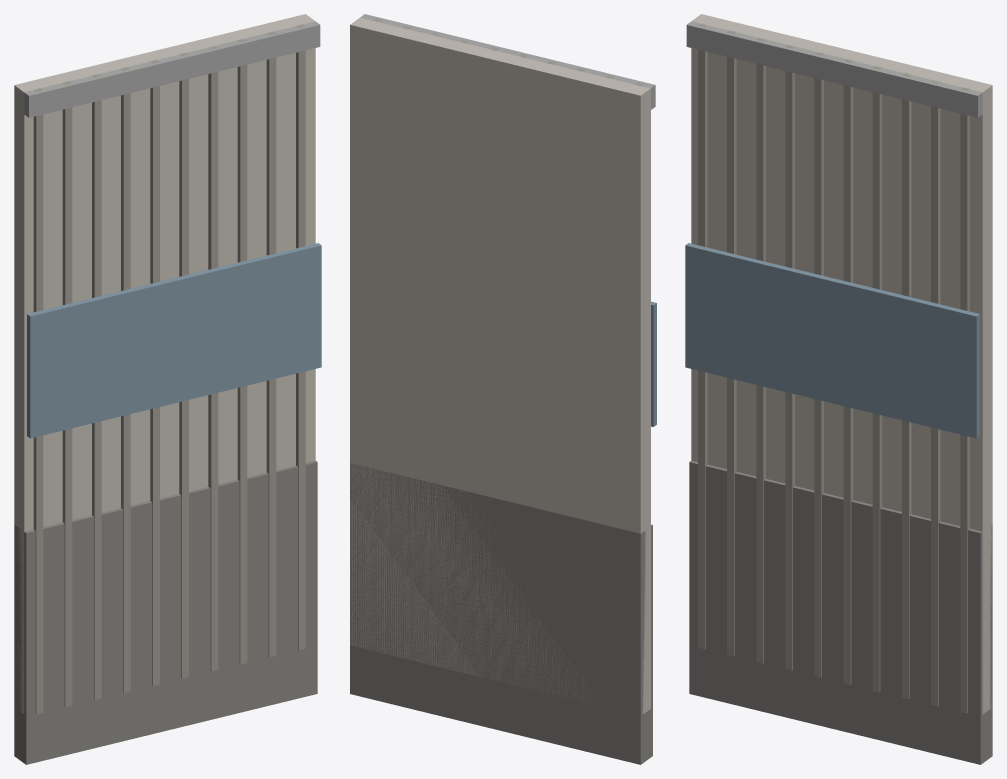
File: shed_wall_glazed.obj
The picture shows the model from 3 angles, left to right: view 1: azimuth 30°, elevation 25°; view 2: azimuth 150°, elevation 25°; view 3: azimuth 330°, elevation 25°; orthographic projection.
Size of the model in its own units: 2.5 by 5.5 by 0.24.
